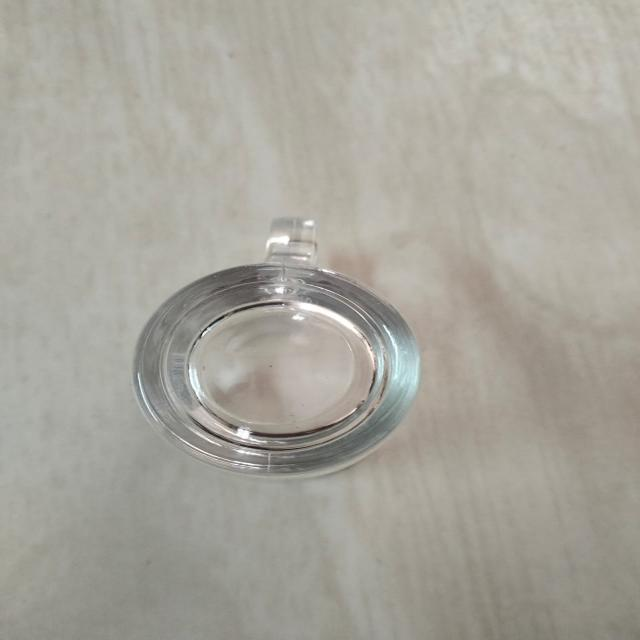glass-VX4N: (130, 216, 421, 483)
